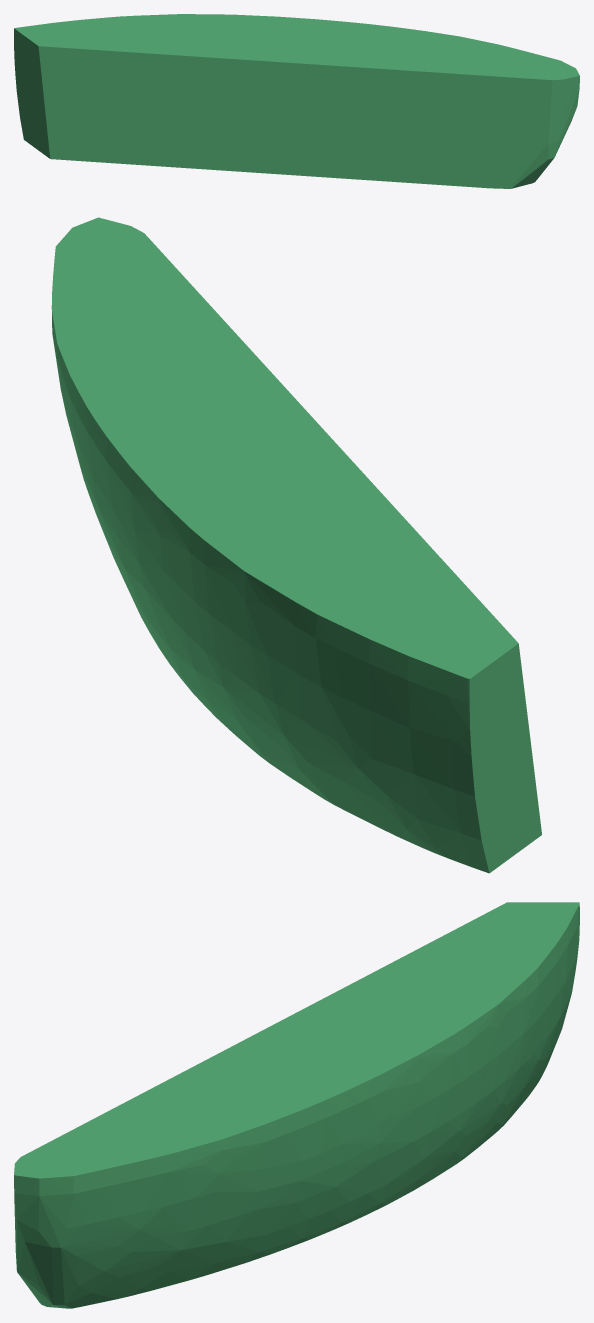
3 renders of one model, top to bottom at view 1: azimuth 30°, elevation 25°; view 2: azimuth 150°, elevation 25°; view 3: azimuth 270°, elevation 25°, orthographic. The views are drawn at different scales.
Bounding box in the file's own units: 0.0569 × 0.0149 × 0.0493.
